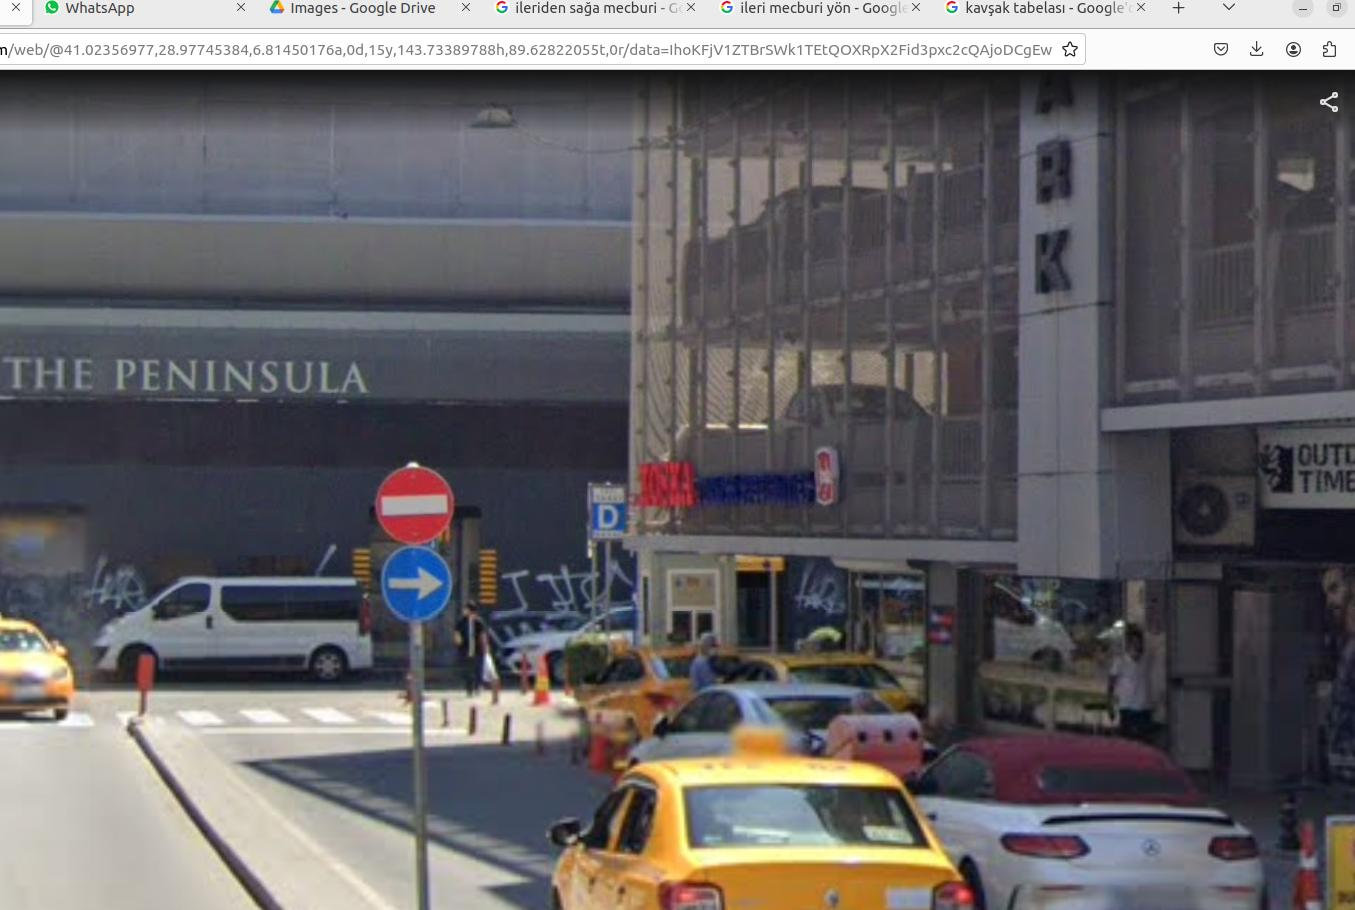station: (591, 500, 626, 533)
turnright: (385, 552, 447, 607)
